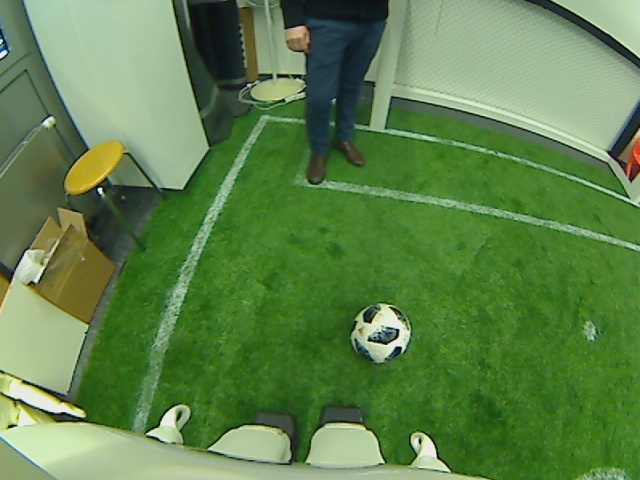ball: (348, 301, 413, 365)
